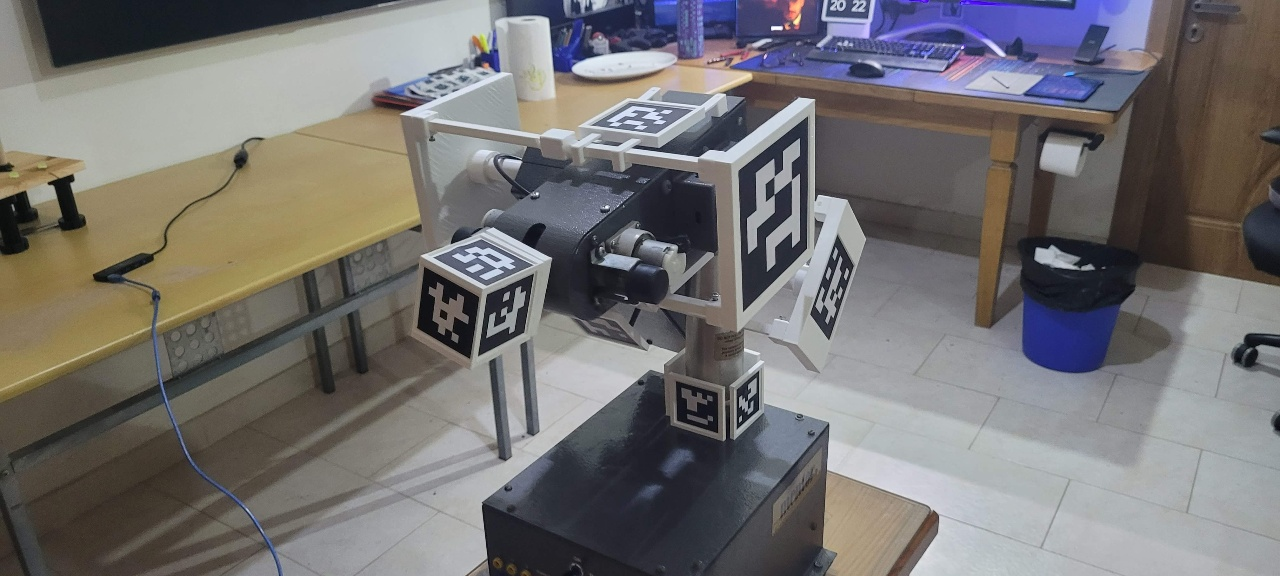Robot: (396, 69, 868, 446)
